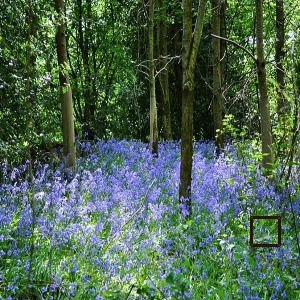square: (248, 214, 285, 248)
